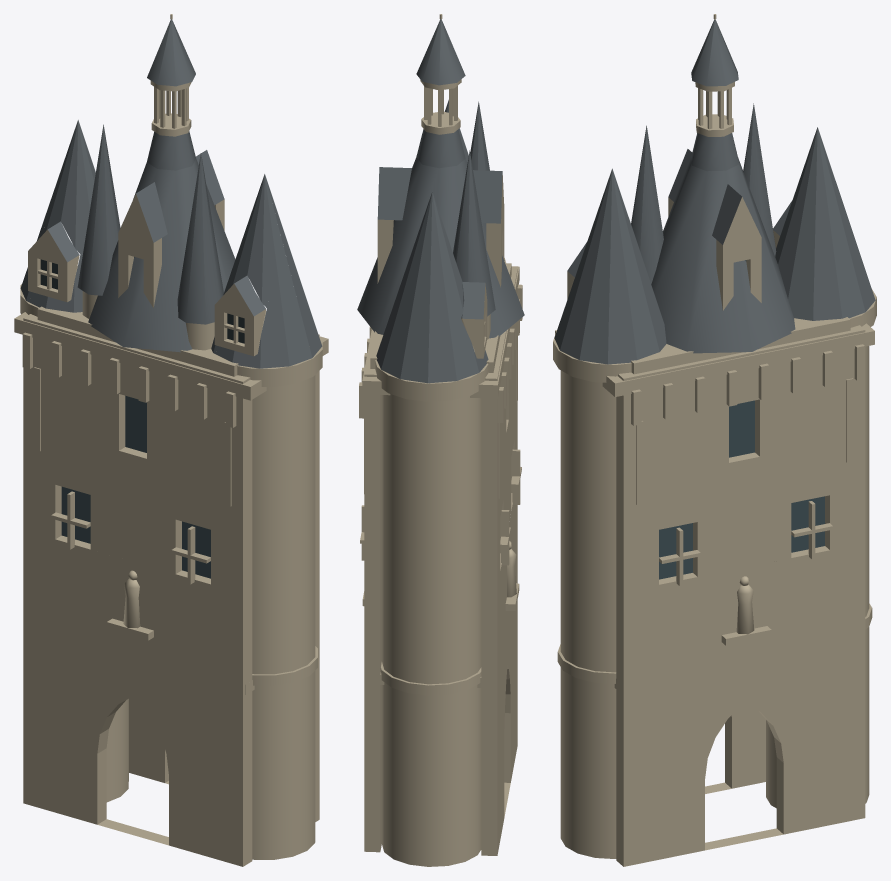
File: porte-cailhau-bordeaux-far.glb
3 renders of one model, left to right at view 1: azimuth 30°, elevation 25°; view 2: azimuth 150°, elevation 25°; view 3: azimuth 270°, elevation 25°, orthographic. The views are drawn at different scales.
Visible parts, largest first — view 1: porte-cailhau-bordeaux-0-plaster, porte-cailhau-bordeaux-0-roof, porte-cailhau-bordeaux-0-glass; view 2: porte-cailhau-bordeaux-0-plaster, porte-cailhau-bordeaux-0-roof; view 3: porte-cailhau-bordeaux-0-plaster, porte-cailhau-bordeaux-0-roof, porte-cailhau-bordeaux-0-glass.
Boxes of the visible parts, x1,y1,x2,y2 form: porte-cailhau-bordeaux-0-plaster: [14, 14, 328, 866]; porte-cailhau-bordeaux-0-roof: [20, 19, 322, 368]; porte-cailhau-bordeaux-0-glass: [61, 257, 210, 578]; porte-cailhau-bordeaux-0-plaster: [359, 14, 522, 866]; porte-cailhau-bordeaux-0-roof: [357, 19, 524, 383]; porte-cailhau-bordeaux-0-plaster: [553, 14, 876, 866]; porte-cailhau-bordeaux-0-roof: [554, 19, 875, 364]; porte-cailhau-bordeaux-0-glass: [659, 260, 824, 579].
Bounding box in the file's own units: 9.88 × 35 × 12.81.
